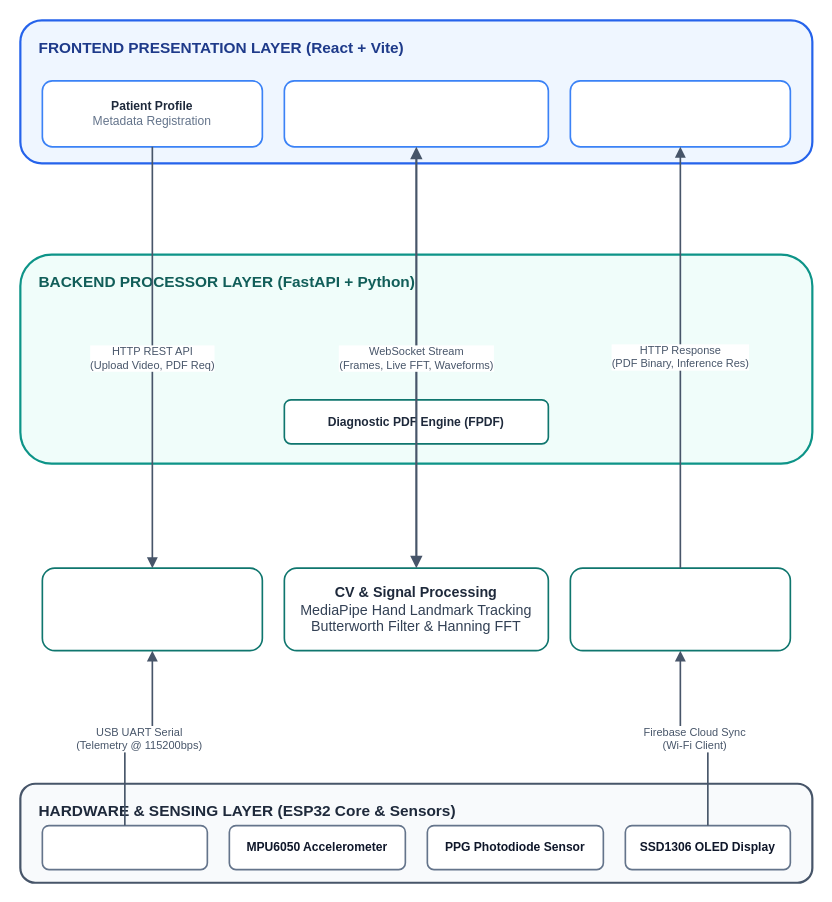
The diagram is 832 pixels wide and 902 high, and some of its shapes have lost their labels. The centre of each missing label's shape, as x and y in pixels:
"Data Ingestion Hub FastAPI Server & Endpoints Serial/UART Port Parser" goes at [152,609].
"Diagnostics Panel PDF Download & Video Upload" goes at [680,113].
"ESP32 MCU (240MHz)" goes at [124,847].
"ML Inference Engine Random Forest Ensemble (Severity, Type, Staging)" goes at [680,609].
"Real-Time Dashboards IMU Oscilloscope, FFT, PPG & BPM" goes at [416,113].
